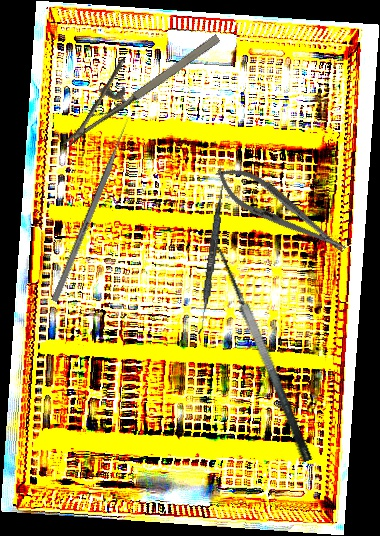Needle Holder: (42, 9, 224, 148), (207, 156, 354, 266)
Pusher: (51, 114, 133, 303)
Spatula Surgical: (200, 240, 315, 471), (197, 184, 226, 335)
